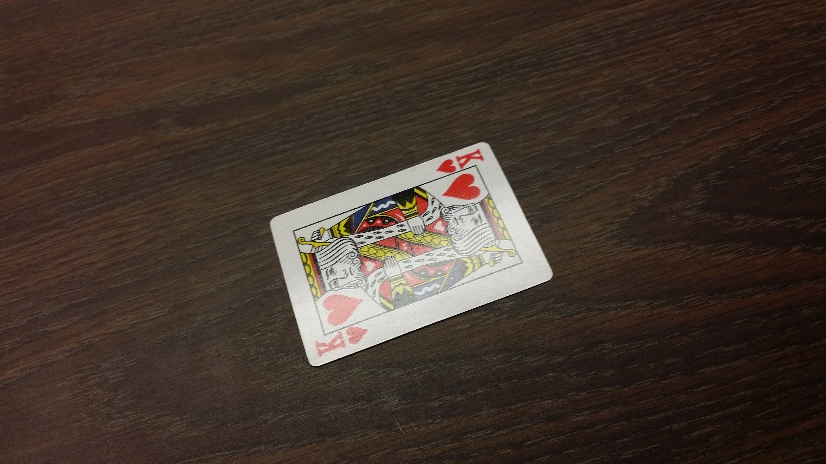Hk: (310, 326, 372, 355), (436, 149, 485, 175)
